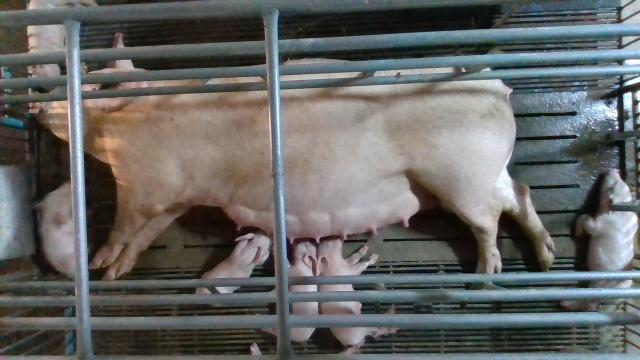piglet: (560, 168, 639, 312), (319, 239, 397, 345), (257, 240, 318, 343), (28, 0, 100, 76), (195, 233, 271, 294), (33, 181, 75, 280)
sow-sleep-lactate: (29, 32, 559, 284)
